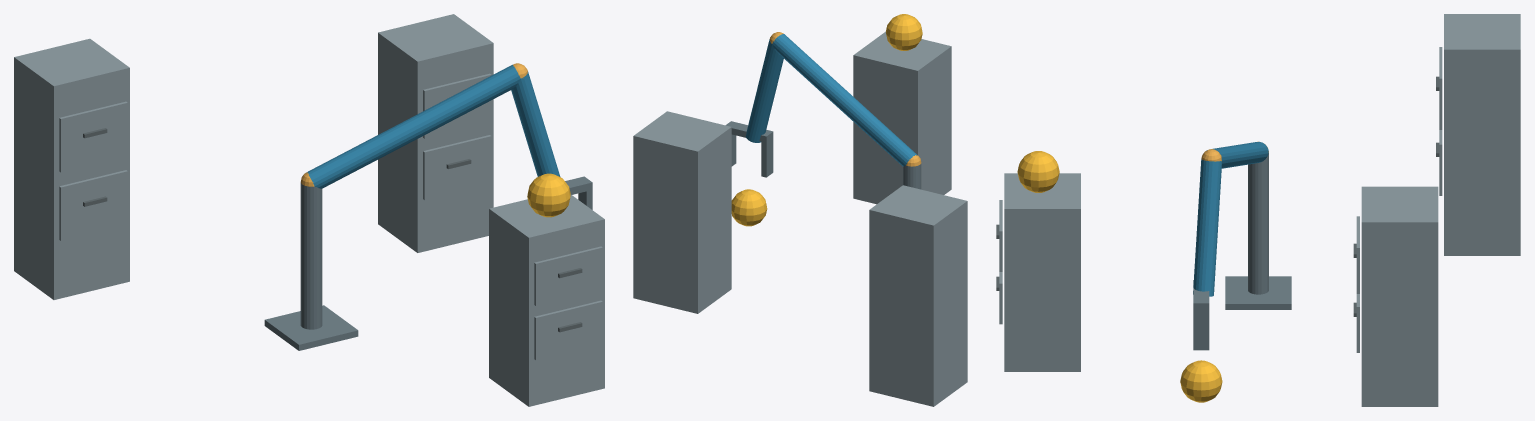
The picture shows the model from 3 angles, left to right: view 1: azimuth 30°, elevation 25°; view 2: azimuth 150°, elevation 25°; view 3: azimuth 270°, elevation 25°; orthographic projection. The views are drawn at different scales.
Visible parts, largest first — view 1: cabinet_3 body, cabinet_2 body, cabinet_1 body, moving link 1, cabinet_3 drawer front.001, cabinet_3 drawer front, cabinet_2 drawer front, fixed post, cabinet_1 drawer front, cabinet_1 drawer front.001, pedestal, moving link 2 (+2 smaller); view 2: cabinet_3 body, cabinet_2 body, cabinet_1 body, moving link 1, moving link 2, ball ball_2, released ball_1, gripper finger -1, fixed post, gripper bridge; view 3: cabinet_3 body, cabinet_2 body, cabinet_1 body, moving link 2, fixed post, pedestal, ball ball_2, released ball_1, moving link 1, gripper finger 1.
Boxes of the visible parts, x1,y1,x2,y2 form: cabinet_3 body: (14,38,129,299); cabinet_2 body: (378,14,493,252); cabinet_1 body: (489,194,604,406); moving link 1: (306,64,520,188); cabinet_3 drawer front.001: (59,101,127,172); cabinet_3 drawer front: (59,170,127,240); cabinet_2 drawer front: (423,135,491,200); fixed post: (300,183,322,329); cabinet_1 drawer front: (534,300,602,360); cabinet_1 drawer front.001: (534,246,602,305); pedestal: (264,305,358,350); moving link 2: (511,72,560,176); cabinet_3 body: (869,185,967,406); cabinet_2 body: (633,111,731,313); cabinet_1 body: (853,31,951,204); moving link 1: (772,34,917,166); moving link 2: (745,39,783,142); ball ball_2: (731,189,767,226); released ball_1: (886,14,922,50); gripper finger -1: (761,138,773,177); fixed post: (903,164,921,189); gripper bridge: (725,121,773,142); cabinet_3 body: (1444,14,1520,255); cabinet_2 body: (1361,186,1438,406); cabinet_1 body: (1004,173,1080,371); moving link 2: (1193,159,1221,296); fixed post: (1248,153,1268,294); pedestal: (1225,276,1291,309); ball ball_2: (1180,360,1222,402); released ball_1: (1017,151,1059,192); moving link 1: (1206,141,1268,168); gripper finger 1: (1193,310,1209,350).
Bounding box in the file's own units: 1.72 × 0.966 × 1.98.
